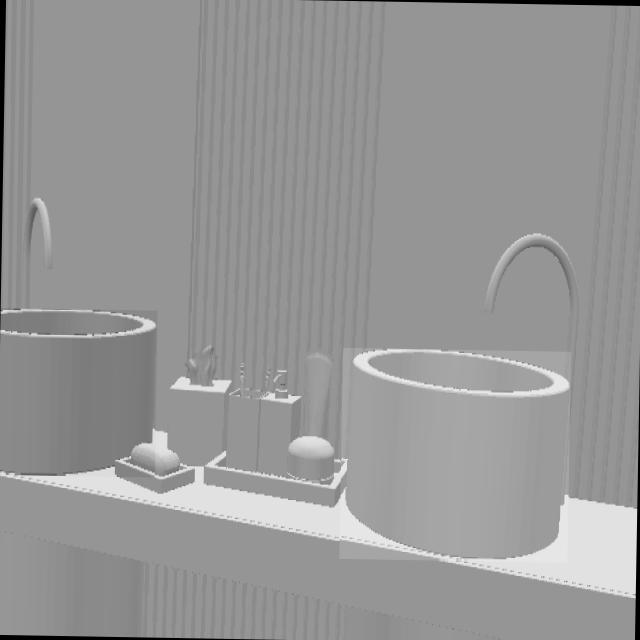washbasin: (340, 349, 570, 561), (0, 308, 157, 475)
